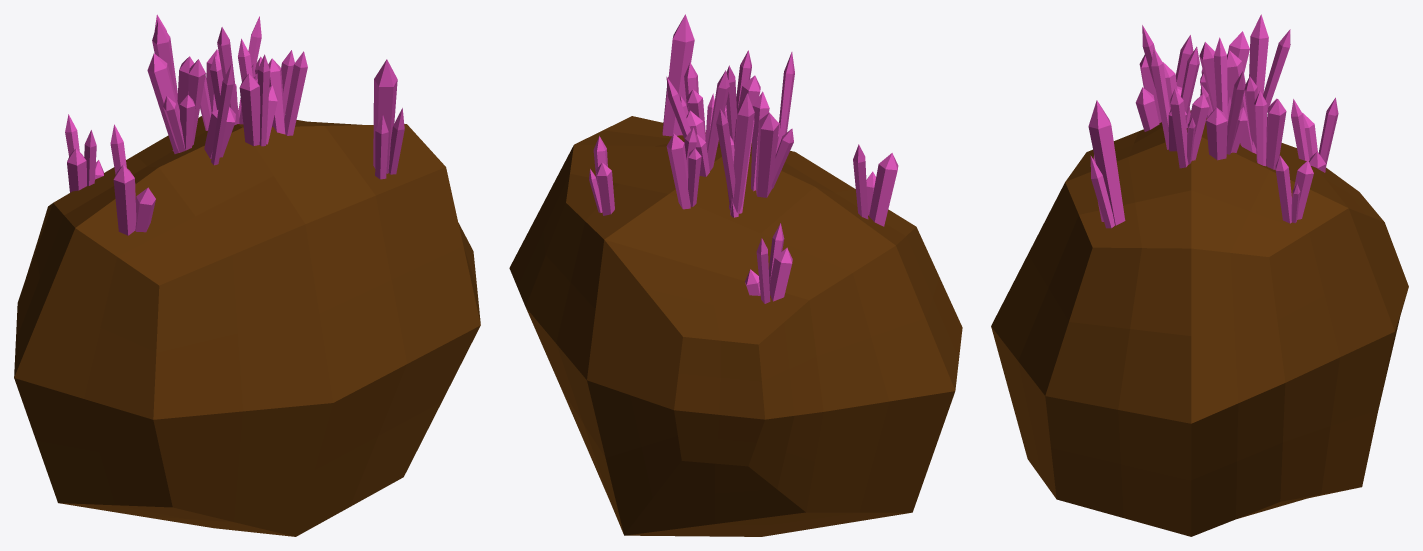
File: asteroid_crystal_4_1.fbx
3 renders of one model, left to right at view 1: azimuth 30°, elevation 25°; view 2: azimuth 150°, elevation 25°; view 3: azimuth 270°, elevation 25°, orthographic. The views are drawn at different scales.
Visible parts, largest first — view 1: crystal_4_1; view 2: crystal_4_1; view 3: crystal_4_1.
Part boxes in pixels (box(x1,y1,x2,y2)): crystal_4_1: box(14, 14, 480, 536); crystal_4_1: box(509, 14, 962, 536); crystal_4_1: box(991, 14, 1408, 536).
Size of the model in its own units: 1273 by 1292 by 1006.
